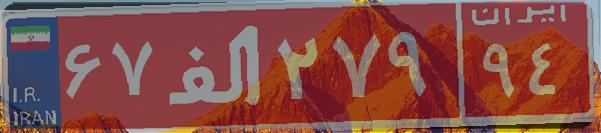2: (273, 28, 330, 110)
4: (525, 38, 570, 115)
6: (57, 26, 110, 107)
7: (330, 28, 385, 110), (110, 28, 158, 105)
9: (385, 28, 445, 110), (475, 38, 525, 113)
الف: (158, 15, 273, 115)
